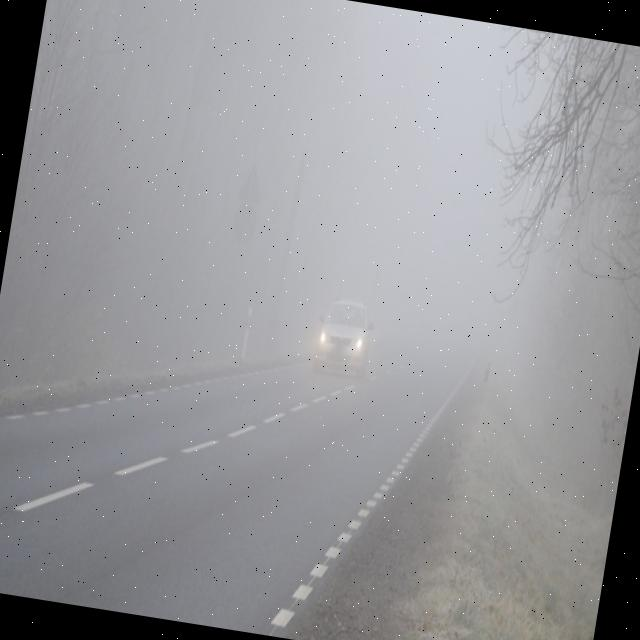car: (310, 295, 376, 380)
